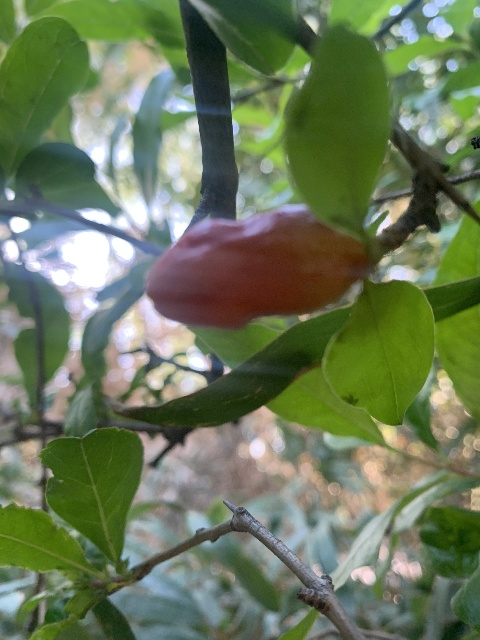bud: (145, 209, 366, 331)
